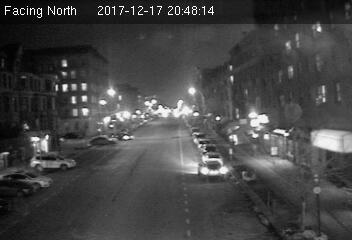car: (196, 159, 227, 180)
